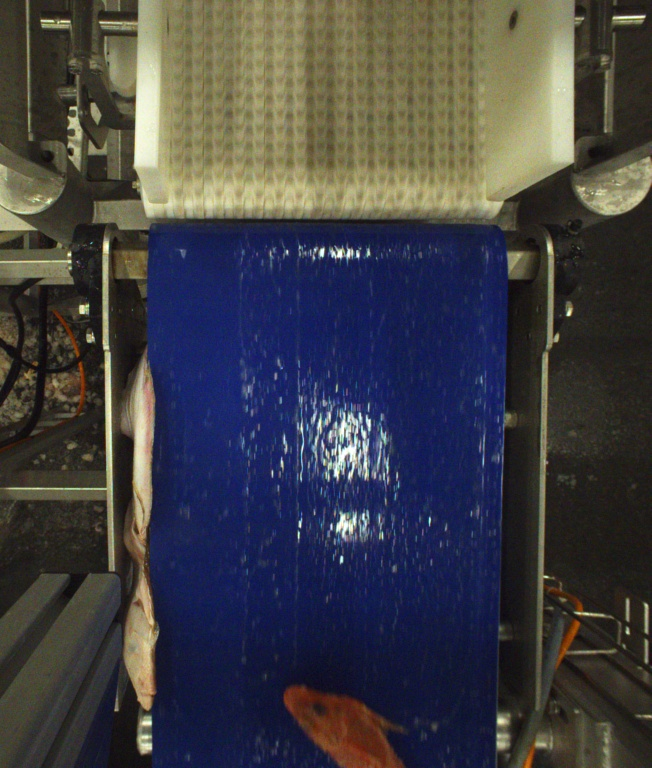GUU: (279, 680, 407, 768)
